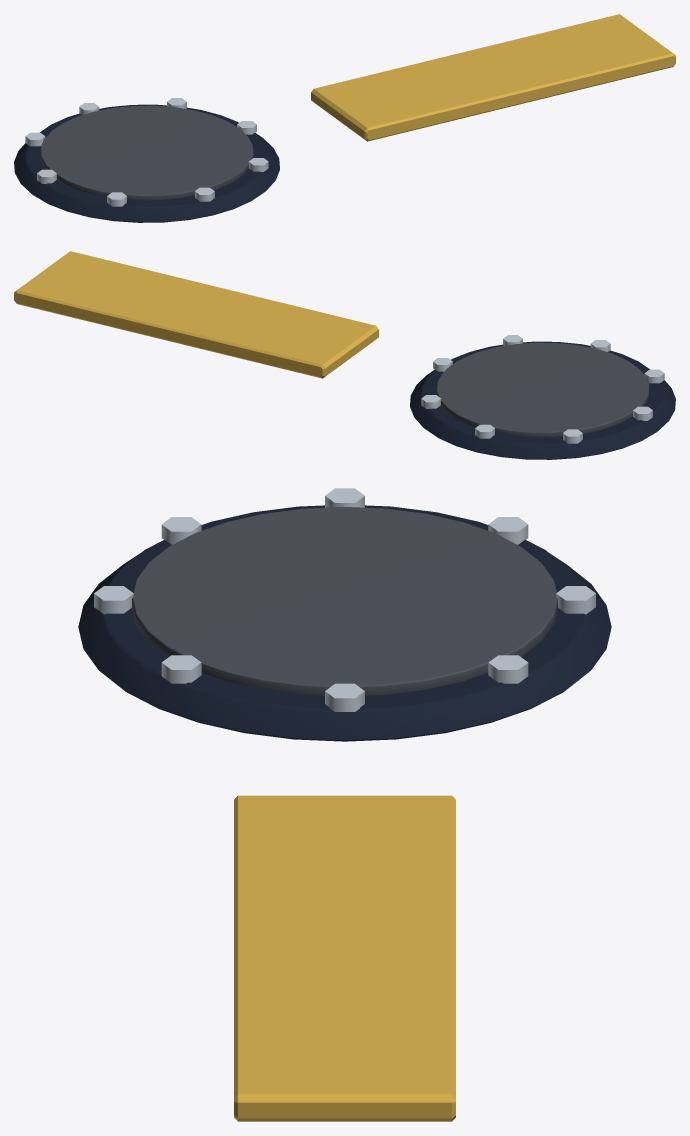
The model's file is spire_terrain.glb.
3 views of the same model, one above another, from view 1: azimuth 30°, elevation 25°; view 2: azimuth 150°, elevation 25°; view 3: azimuth 270°, elevation 25° (orthographic). The views are drawn at different scales.
Parts seen in each view (by area): view 1: terrain_manhole_cover, terrain_manhole_lid, terrain_manhole_ring, terrain_manhole_bolts; view 2: terrain_manhole_cover, terrain_manhole_lid, terrain_manhole_ring, terrain_manhole_bolts; view 3: terrain_manhole_cover, terrain_manhole_lid, terrain_manhole_ring, terrain_manhole_bolts.
Boxes of the visible parts, x1=… form: terrain_manhole_cover: x1=311, y1=14, x2=675, y2=141; terrain_manhole_lid: x1=40, y1=105, x2=253, y2=200; terrain_manhole_ring: x1=14, y1=104, x2=279, y2=222; terrain_manhole_bolts: x1=25, y1=98, x2=268, y2=206; terrain_manhole_cover: x1=14, y1=251, x2=378, y2=378; terrain_manhole_lid: x1=436, y1=342, x2=649, y2=437; terrain_manhole_ring: x1=410, y1=341, x2=675, y2=459; terrain_manhole_bolts: x1=421, y1=335, x2=664, y2=443; terrain_manhole_cover: x1=234, y1=795, x2=455, y2=1121; terrain_manhole_lid: x1=132, y1=507, x2=557, y2=695; terrain_manhole_ring: x1=78, y1=505, x2=611, y2=741; terrain_manhole_bolts: x1=94, y1=488, x2=595, y2=711.
Size of what is drawn, in the model's own units: 3.21 by 0.101 by 1.2.
